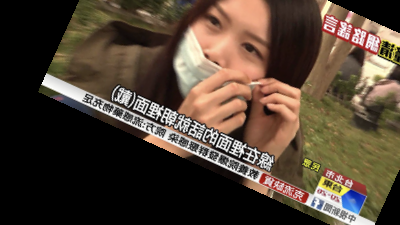mask_weared_incorrect: (159, 3, 332, 137)
